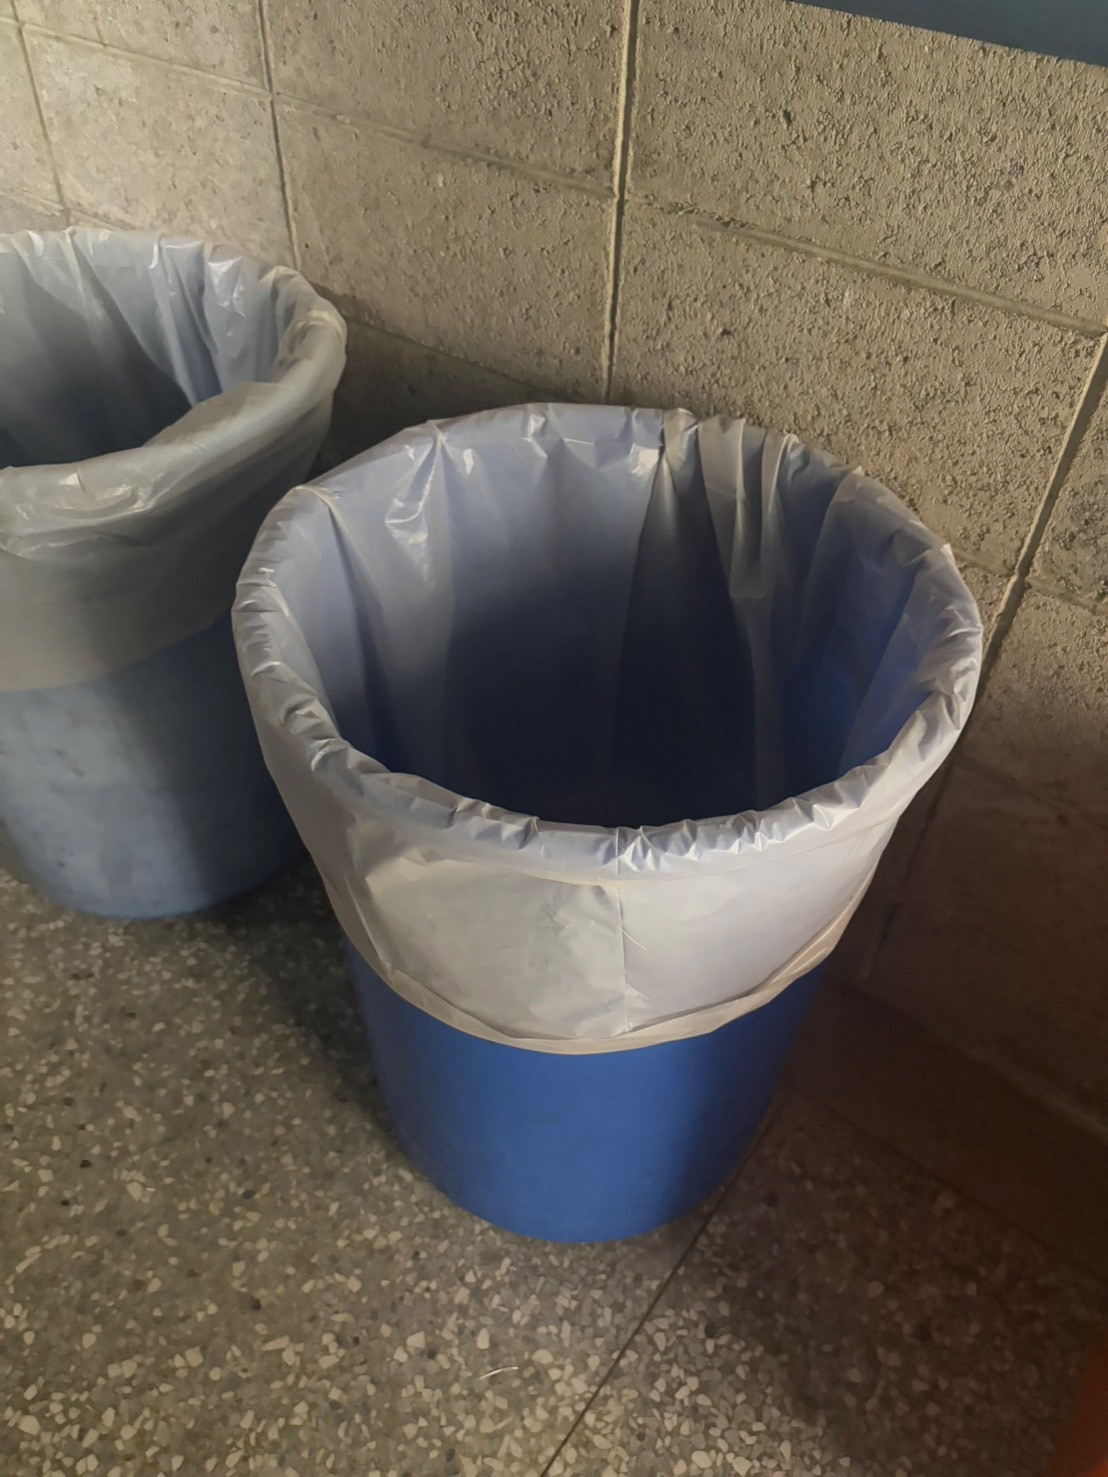normal_bin: (189, 370, 1010, 1318)
